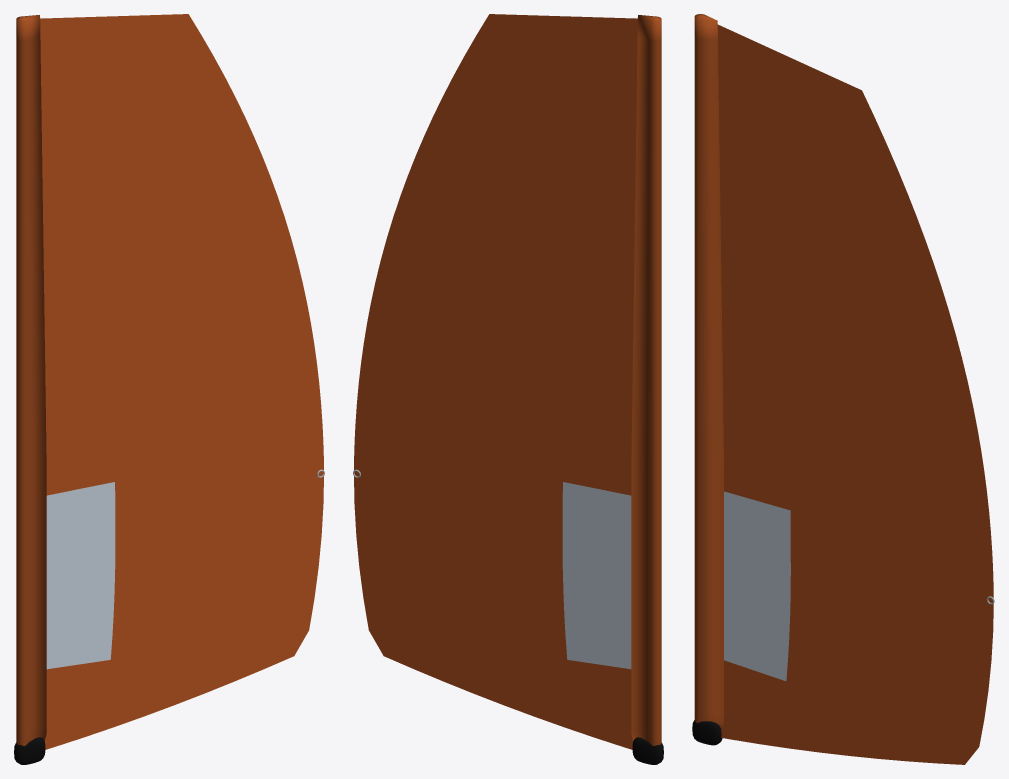
The model's file is savanna_freerace_7_0.glb.
The picture shows the model from 3 angles, left to right: view 1: azimuth 30°, elevation 25°; view 2: azimuth 150°, elevation 25°; view 3: azimuth 330°, elevation 25°; orthographic projection. The views are drawn at different scales.
Parts seen in each view (by area): view 1: SailCloth, TackFairing; view 2: SailCloth, TackFairing; view 3: SailCloth, TackFairing.
Boxes of the visible parts, x1,y1,x2,y2 form: SailCloth: (16, 14, 323, 749); TackFairing: (14, 737, 45, 764); SailCloth: (354, 14, 661, 749); TackFairing: (632, 737, 663, 764); SailCloth: (694, 14, 993, 764); TackFairing: (692, 720, 722, 745).
Bounding box in the file's own units: 1.94 × 4.48 × 0.08.
